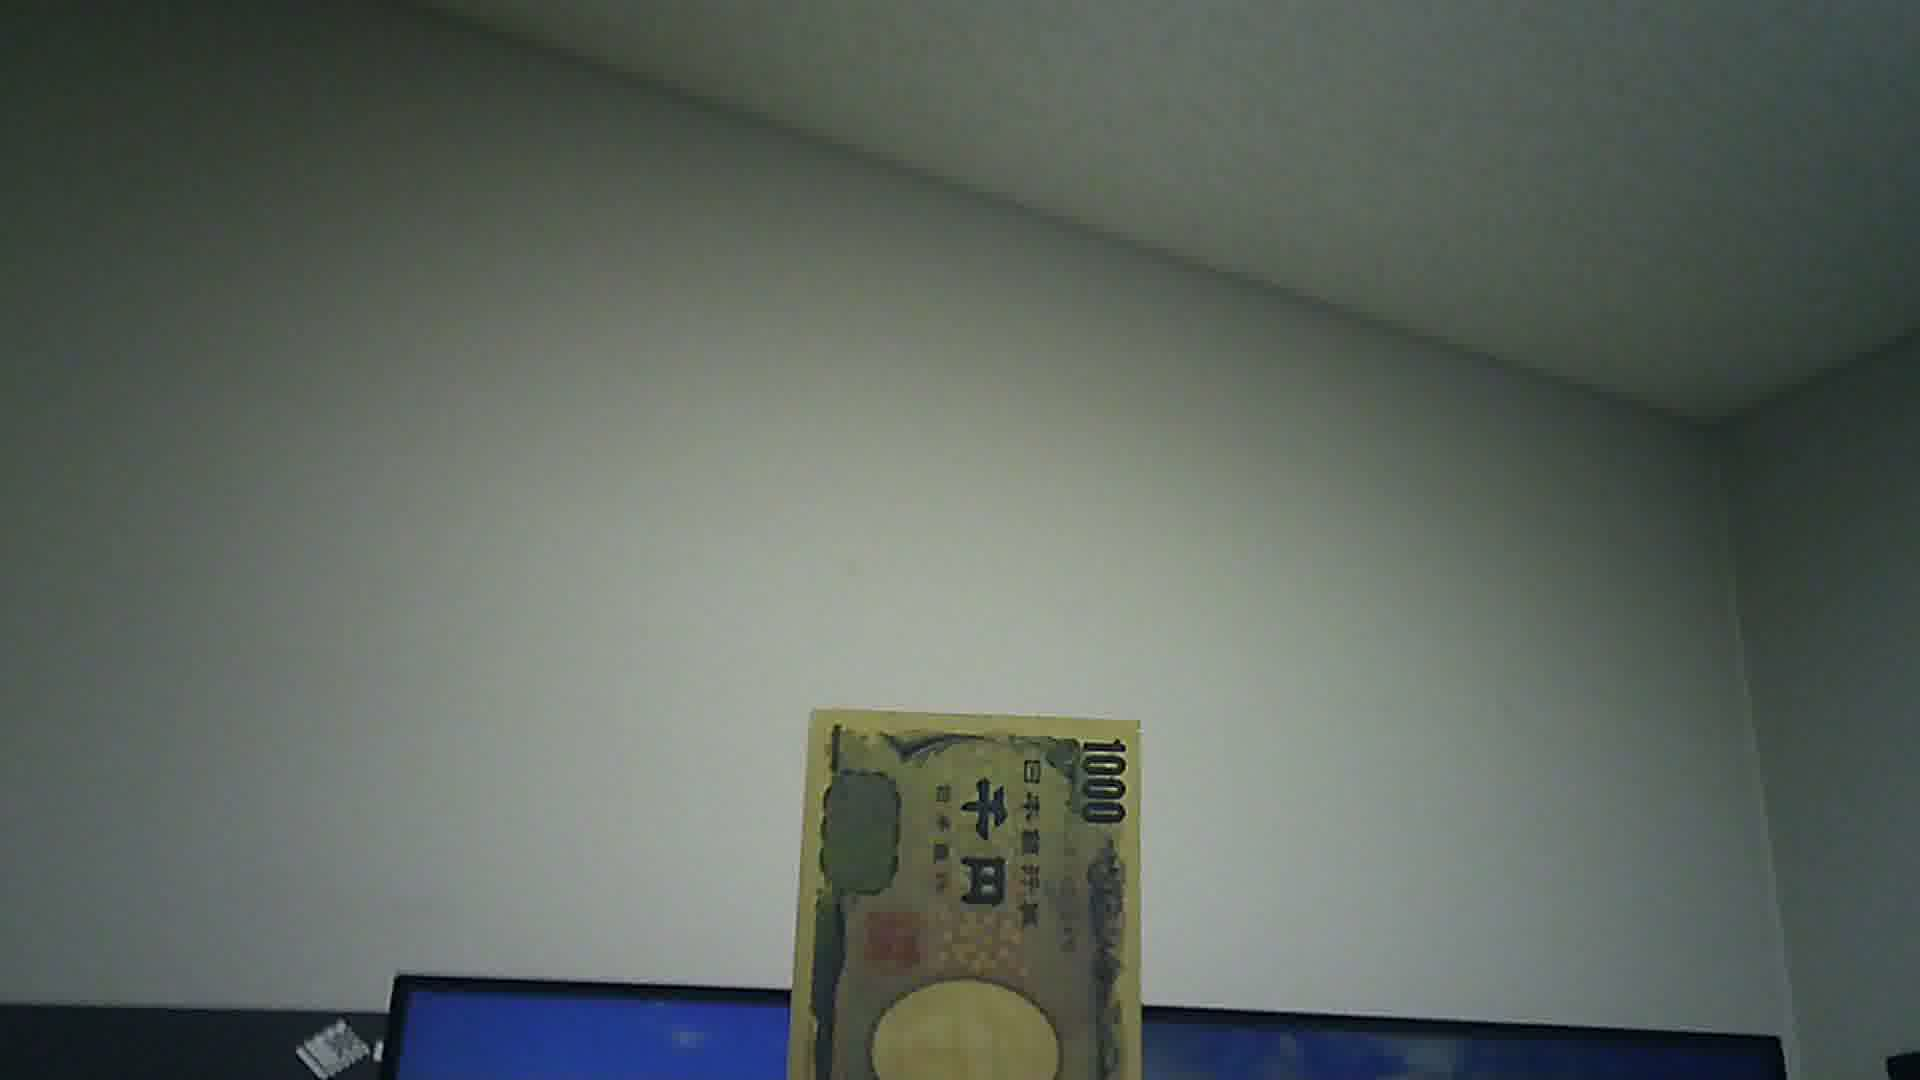1,000 Yen: (787, 702, 1145, 1079)
